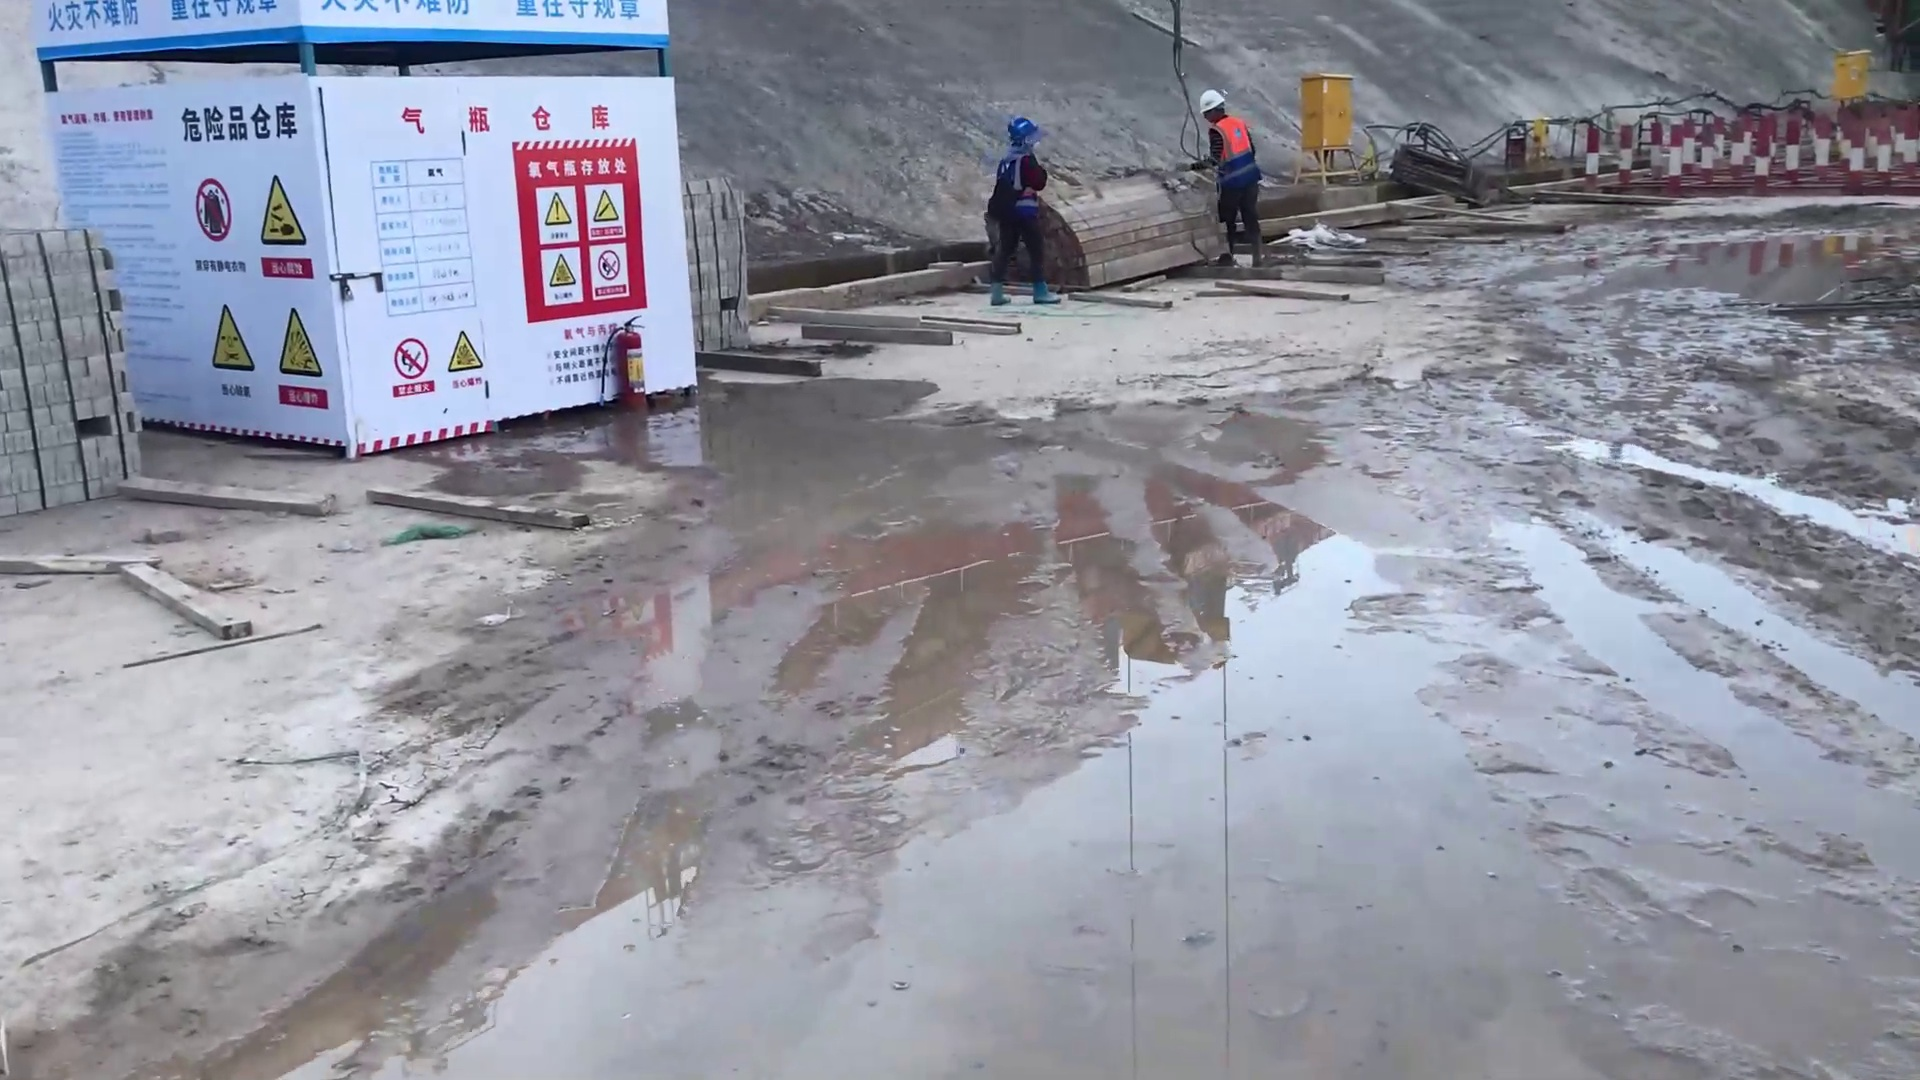brick: (3, 212, 156, 520), (663, 139, 792, 365)
ebox: (1818, 18, 1920, 129), (1295, 59, 1384, 170)
helmet: (1194, 88, 1231, 126), (1004, 117, 1047, 143)
person: (981, 111, 1062, 314), (1190, 80, 1273, 273)
slogan: (154, 78, 363, 435), (508, 142, 663, 320), (36, 1, 304, 68), (373, 329, 514, 426)
vest: (1207, 115, 1256, 192), (992, 149, 1041, 214)
wood: (1060, 190, 1189, 297)
